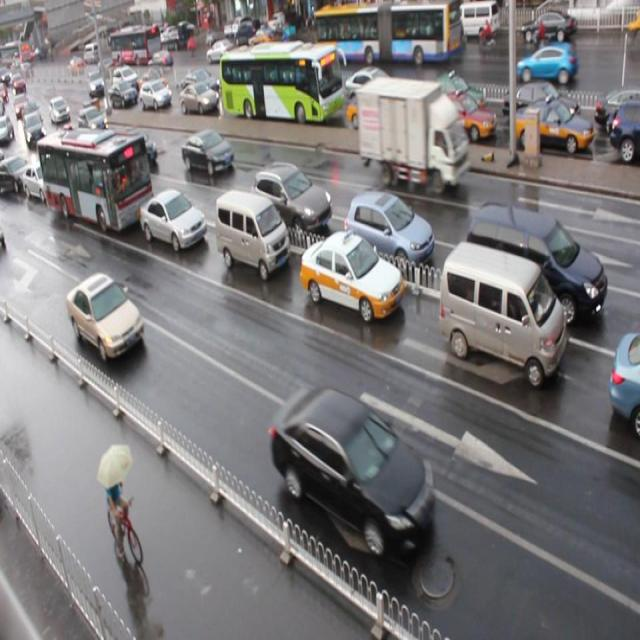bus: (356, 74, 470, 194)
car: (270, 384, 436, 558), (299, 228, 402, 322), (343, 195, 434, 278), (66, 271, 145, 364), (251, 162, 330, 238), (514, 99, 593, 158), (138, 187, 206, 252), (425, 92, 496, 143), (503, 83, 577, 128), (608, 331, 640, 435), (420, 76, 486, 121), (345, 86, 406, 133), (341, 66, 398, 110), (183, 130, 233, 178), (593, 92, 640, 134), (608, 99, 640, 160), (21, 158, 60, 203), (121, 130, 158, 167), (0, 153, 32, 192), (180, 83, 219, 114), (182, 68, 222, 97), (232, 69, 266, 103), (139, 80, 172, 112), (79, 105, 107, 138), (113, 65, 140, 94), (110, 81, 136, 110), (139, 68, 164, 93)
truck: (465, 198, 607, 332), (438, 240, 565, 388), (213, 187, 289, 280)
van: (37, 126, 154, 235), (216, 42, 339, 124)
